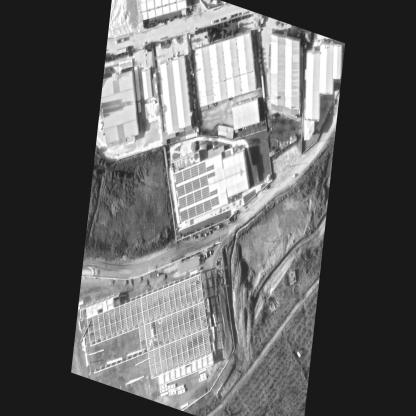solar-pv-panel: (201, 186, 210, 200), (182, 168, 191, 182), (184, 181, 193, 195), (186, 193, 195, 207), (180, 209, 189, 223), (176, 184, 185, 198), (174, 171, 183, 185), (197, 162, 206, 175), (199, 175, 208, 188), (203, 200, 212, 213), (191, 178, 200, 191), (193, 190, 202, 203), (195, 203, 204, 216), (187, 206, 196, 219), (178, 196, 187, 209), (190, 165, 198, 178), (210, 197, 219, 207), (209, 189, 217, 197), (206, 165, 214, 172), (207, 172, 215, 179)
